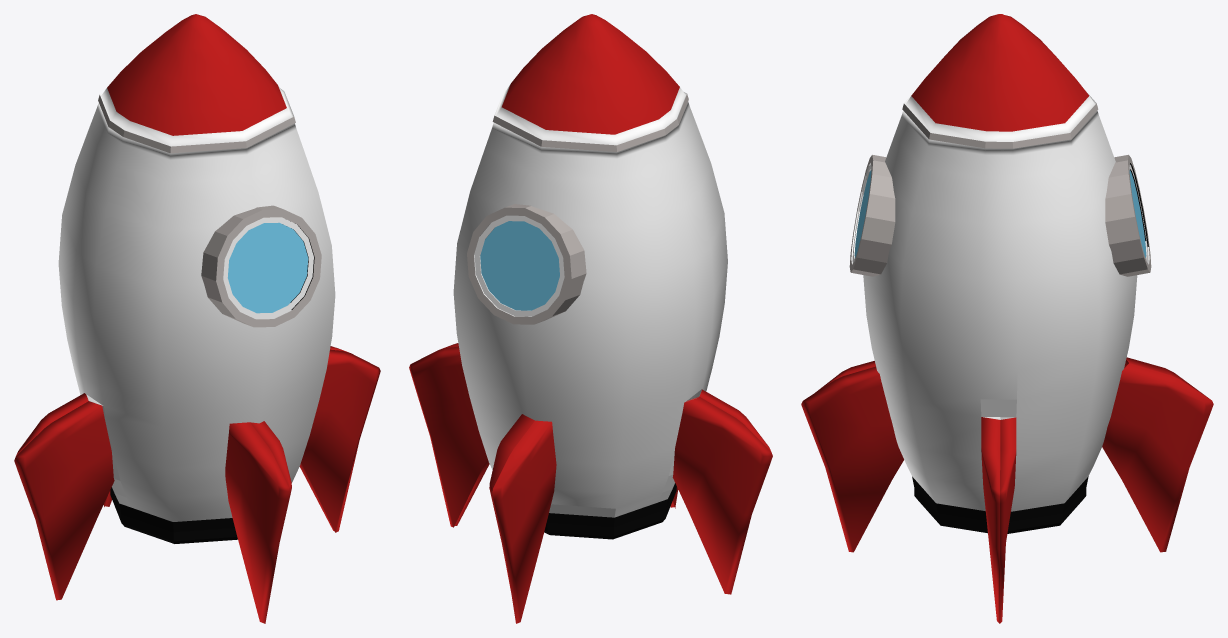
File: rocket_v1.glb
The picture shows the model from 3 angles, left to right: view 1: azimuth 30°, elevation 25°; view 2: azimuth 150°, elevation 25°; view 3: azimuth 270°, elevation 25°; orthographic projection.
Visible parts, largest first — view 1: Cube.004; view 2: Cube.004; view 3: Cube.004.
Part boxes in pixels (x1=…): Cube.004: x1=14, y1=14, x2=380, y2=623; Cube.004: x1=409, y1=14, x2=772, y2=623; Cube.004: x1=801, y1=14, x2=1213, y2=623.
Size of the model in its own units: 2.38 by 3.41 by 2.35.
Materials: 1 (1 with a texture image).
